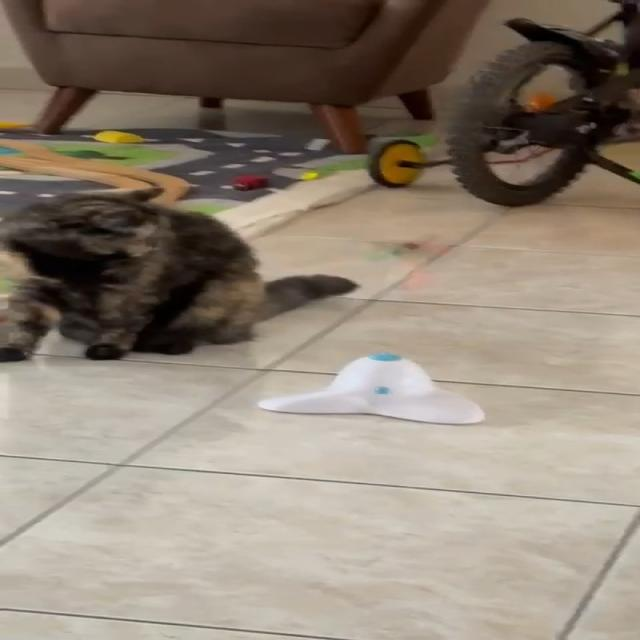authorized: (0, 186, 359, 362)
